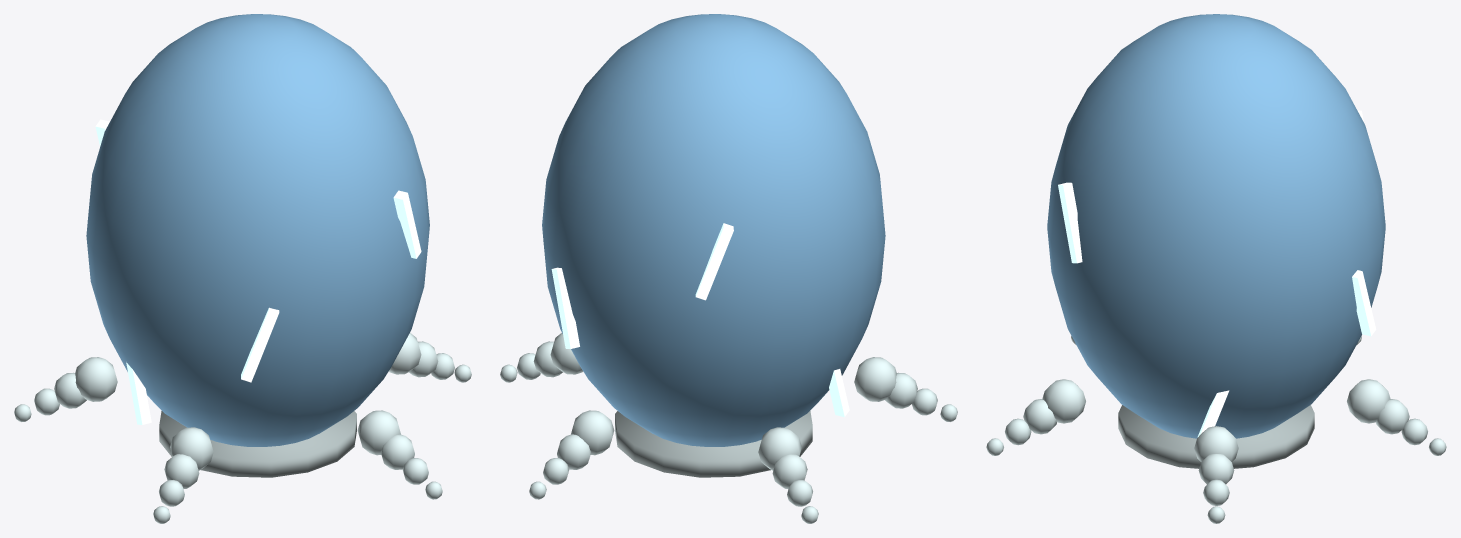
Rendered from egg_lake_06.glb.
The picture shows the model from 3 angles, left to right: view 1: azimuth 30°, elevation 25°; view 2: azimuth 150°, elevation 25°; view 3: azimuth 270°, elevation 25°; orthographic projection.
Visible parts, largest first — view 1: ball; view 2: ball; view 3: ball.
Boxes of the visible parts, x1=… form: ball: x1=14, y1=14, x2=471, y2=523; ball: x1=500, y1=14, x2=957, y2=523; ball: x1=986, y1=14, x2=1446, y2=523.
Size of the model in its own units: 0.9843 by 1 by 1.03.
